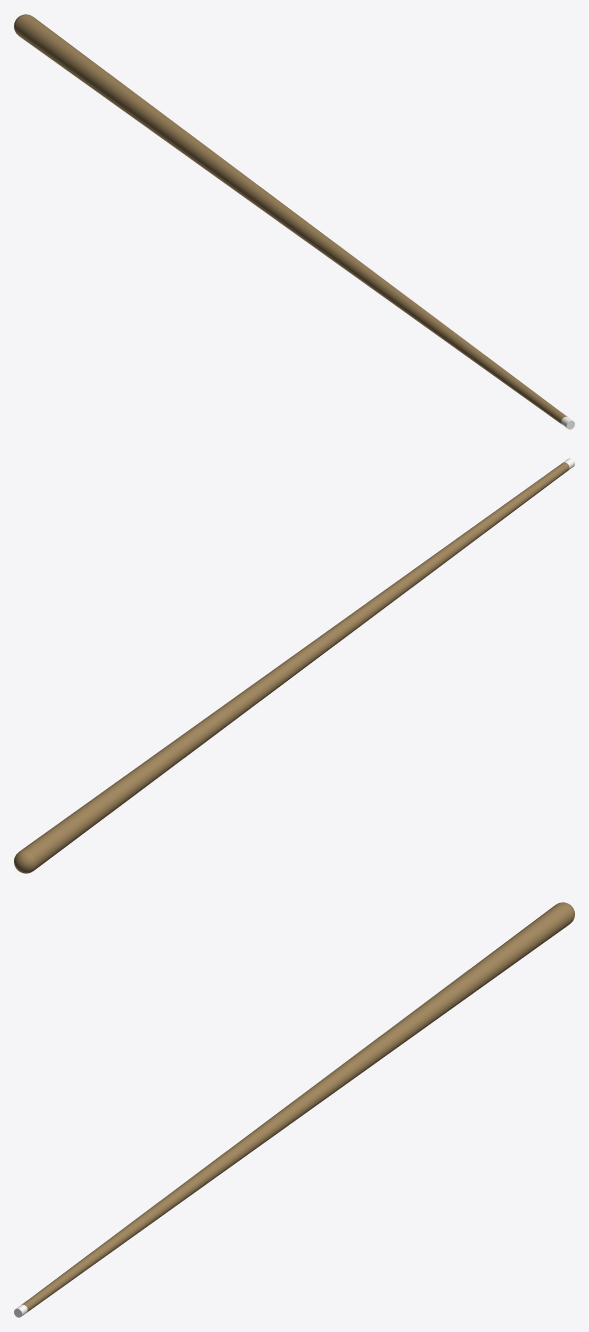
Rendered from Pool Stick.fbx.
3 views of the same model, one above another, from view 1: azimuth 30°, elevation 25°; view 2: azimuth 150°, elevation 25°; view 3: azimuth 330°, elevation 25° (orthographic).
Parts seen in each view (by area): view 1: Body1; view 2: Body1; view 3: Body1.
Boxes of the visible parts, x1,y1,x2,y2 form: Body1: (14, 14, 567, 424); Body1: (14, 462, 569, 873); Body1: (21, 902, 574, 1312).
Bounding box in the file's own units: 3.29 × 3.29 × 150.
